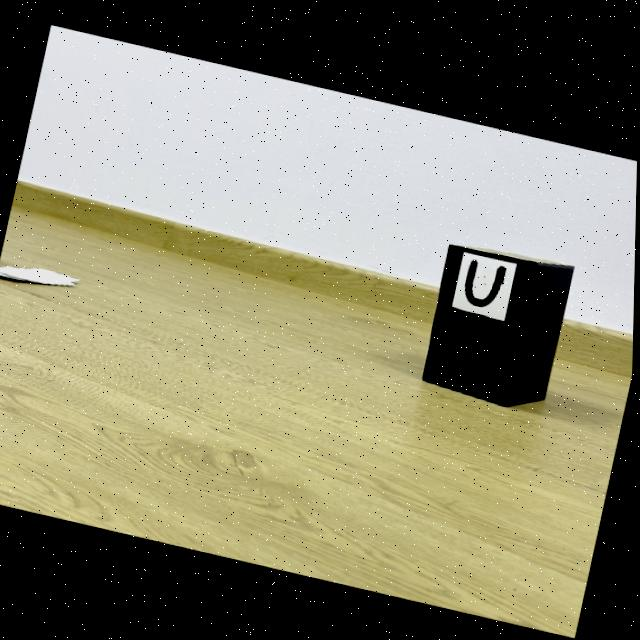U: (467, 256, 507, 304)
